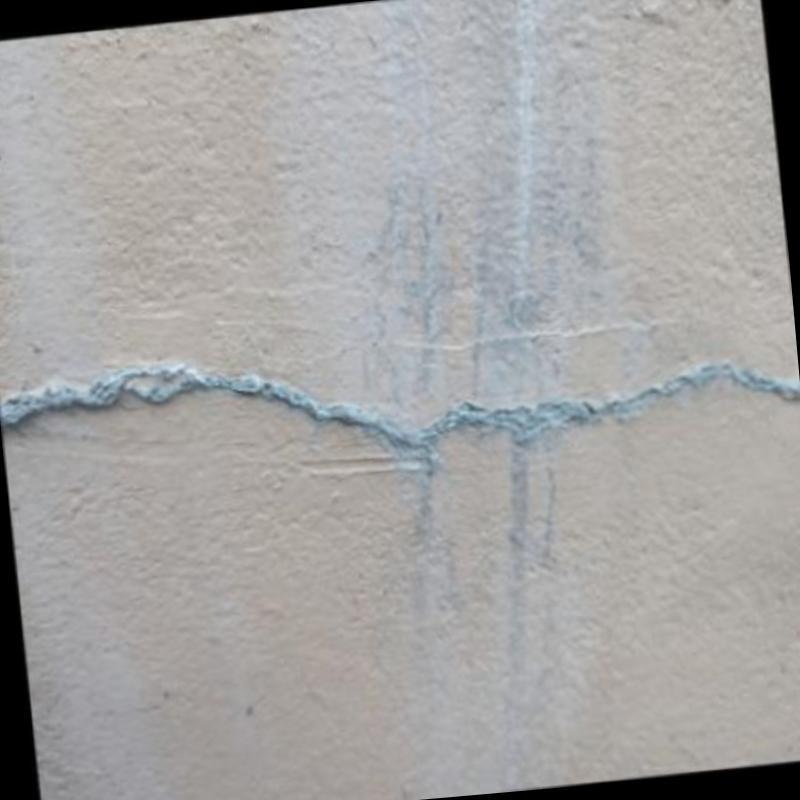pothole: (0, 353, 800, 478)
